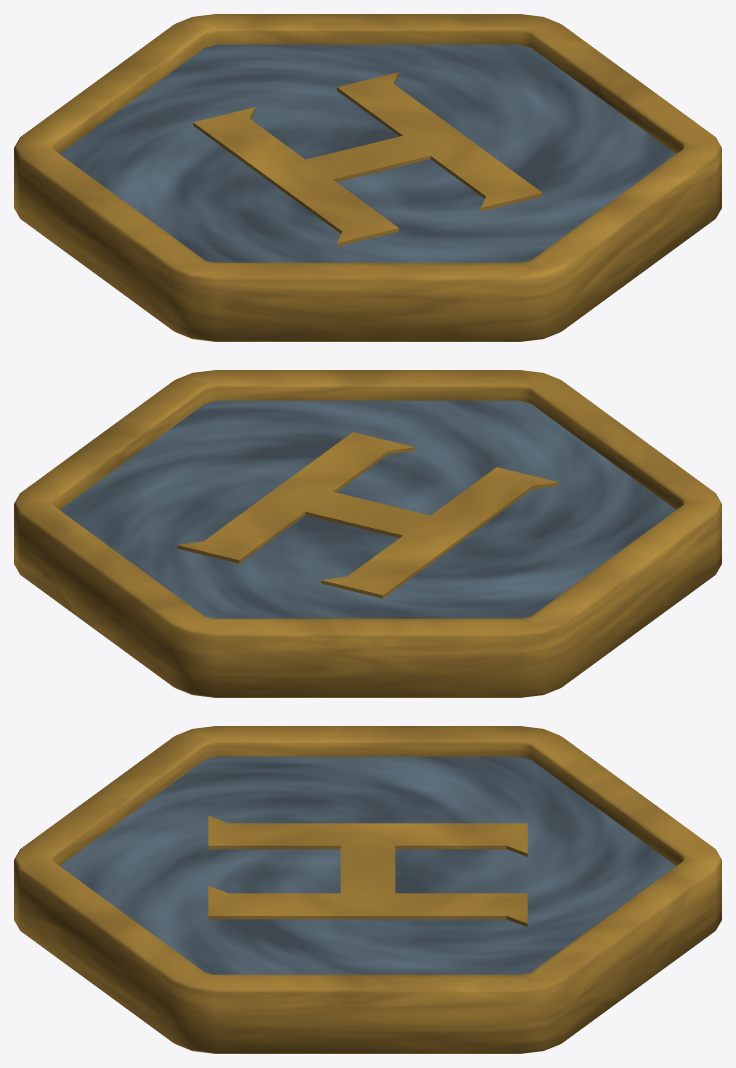
The model's file is Coin.glb.
3 views of the same model, one above another, from view 1: azimuth 30°, elevation 25°; view 2: azimuth 150°, elevation 25°; view 3: azimuth 270°, elevation 25° (orthographic).
Visible parts, largest first — view 1: Baked; view 2: Baked; view 3: Baked.
Boxes of the visible parts, x1,y1,x2,y2 form: Baked: [14, 14, 721, 341]; Baked: [14, 370, 721, 697]; Baked: [14, 726, 721, 1053].
Bounding box in the file's own units: 0.2677 × 0.0305 × 0.3017.
1 material, 1 textured.
